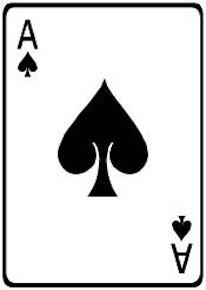AceOfSpades: (2, 2, 205, 290)
